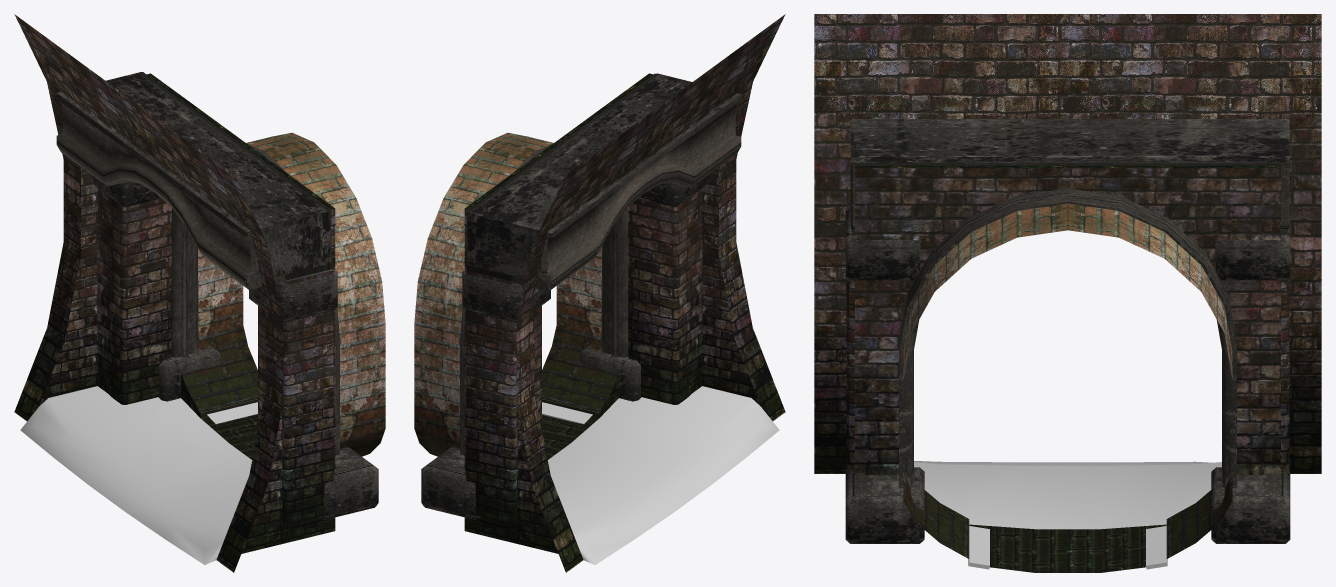
The model's file is TL_entrance.DAE.
3 renders of one model, left to right at view 1: azimuth 30°, elevation 25°; view 2: azimuth 150°, elevation 25°; view 3: azimuth 270°, elevation 25°, orthographic. The views are drawn at different scales.
Parts seen in each view (by area): view 1: tunnel_low_entrance, tunnel_low_arch_entrance, tunnel_low_entrance_floor, tunnel_low_entrance_end, tunnel_low_entrance_floor_small, tunnel_low_drain_entrance; view 2: tunnel_low_entrance, tunnel_low_arch_entrance, tunnel_low_entrance_floor, tunnel_low_entrance_end, tunnel_low_entrance_floor_small, tunnel_low_drain_entrance; view 3: tunnel_low_entrance, tunnel_low_arch_entrance, tunnel_low_entrance_floor, tunnel_low_entrance_end, tunnel_low_entrance_floor_small, tunnel_low_drain_entrance.
Boxes of the visible parts, left/top/right/bottom form: tunnel_low_entrance: left=14, top=14, right=335, bottom=572; tunnel_low_arch_entrance: left=56, top=72, right=378, bottom=520; tunnel_low_entrance_floor: left=20, top=386, right=252, bottom=564; tunnel_low_entrance_end: left=181, top=132, right=385, bottom=456; tunnel_low_entrance_floor_small: left=200, top=414, right=257, bottom=459; tunnel_low_drain_entrance: left=207, top=402, right=257, bottom=424; tunnel_low_entrance: left=464, top=14, right=785, bottom=572; tunnel_low_arch_entrance: left=421, top=73, right=741, bottom=520; tunnel_low_entrance_floor: left=547, top=386, right=779, bottom=564; tunnel_low_entrance_end: left=414, top=132, right=618, bottom=456; tunnel_low_entrance_floor_small: left=542, top=415, right=599, bottom=459; tunnel_low_drain_entrance: left=542, top=402, right=592, bottom=424; tunnel_low_entrance: left=814, top=14, right=1321, bottom=474; tunnel_low_arch_entrance: left=845, top=119, right=1290, bottom=543; tunnel_low_entrance_floor: left=914, top=461, right=1221, bottom=529; tunnel_low_entrance_end: left=903, top=203, right=1232, bottom=558; tunnel_low_entrance_floor_small: left=969, top=524, right=1166, bottom=572; tunnel_low_drain_entrance: left=968, top=526, right=1167, bottom=569.
Size of the model in its own units: 2.18 by 4 by 4.02.
